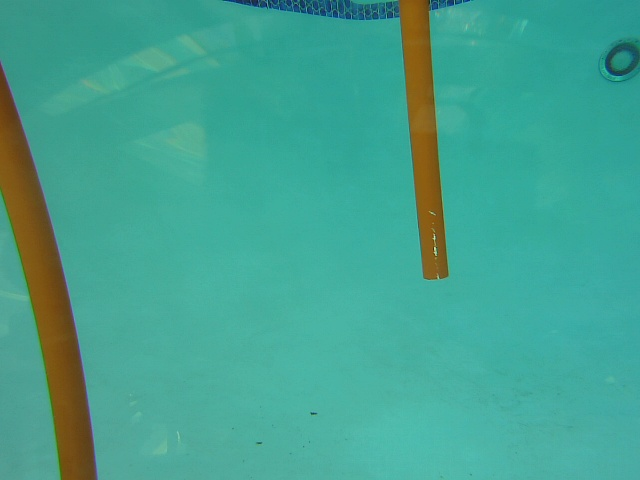Gate: (1, 55, 99, 480), (396, 1, 458, 293)
